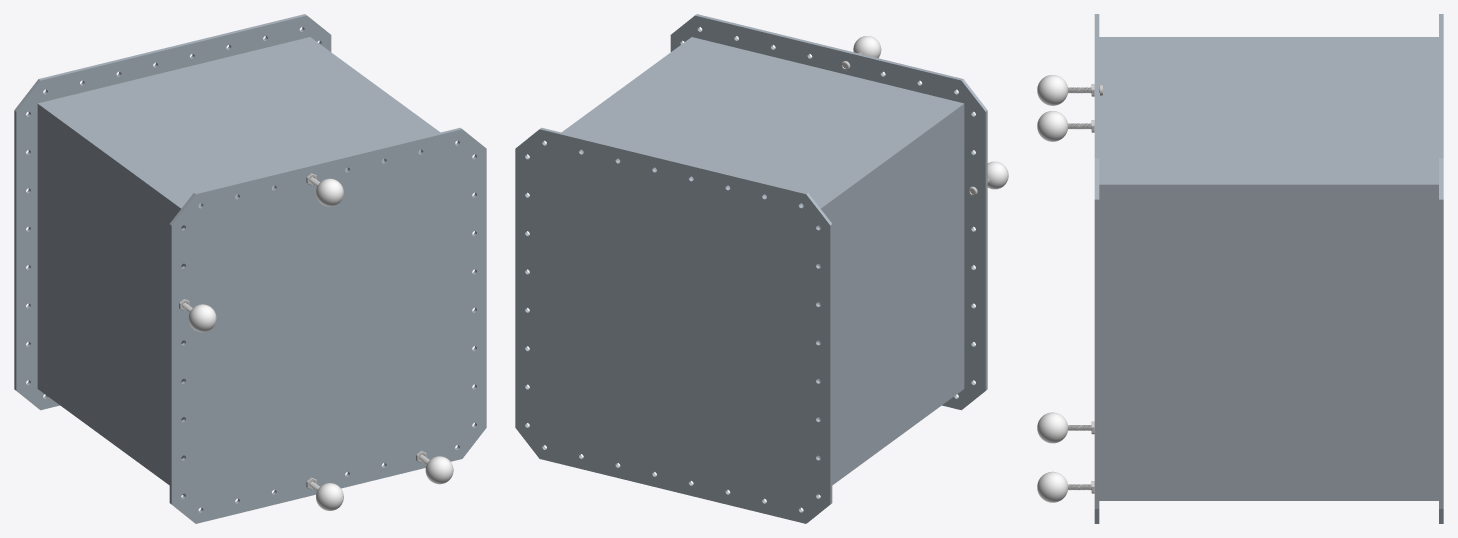
Rendered from NED.gltf.
The picture shows the model from 3 angles, left to right: view 1: azimuth 30°, elevation 25°; view 2: azimuth 150°, elevation 25°; view 3: azimuth 270°, elevation 25°; orthographic projection. The views are drawn at different scales.
Bounding box in the file's own units: 26.01 × 26 × 26.2.
